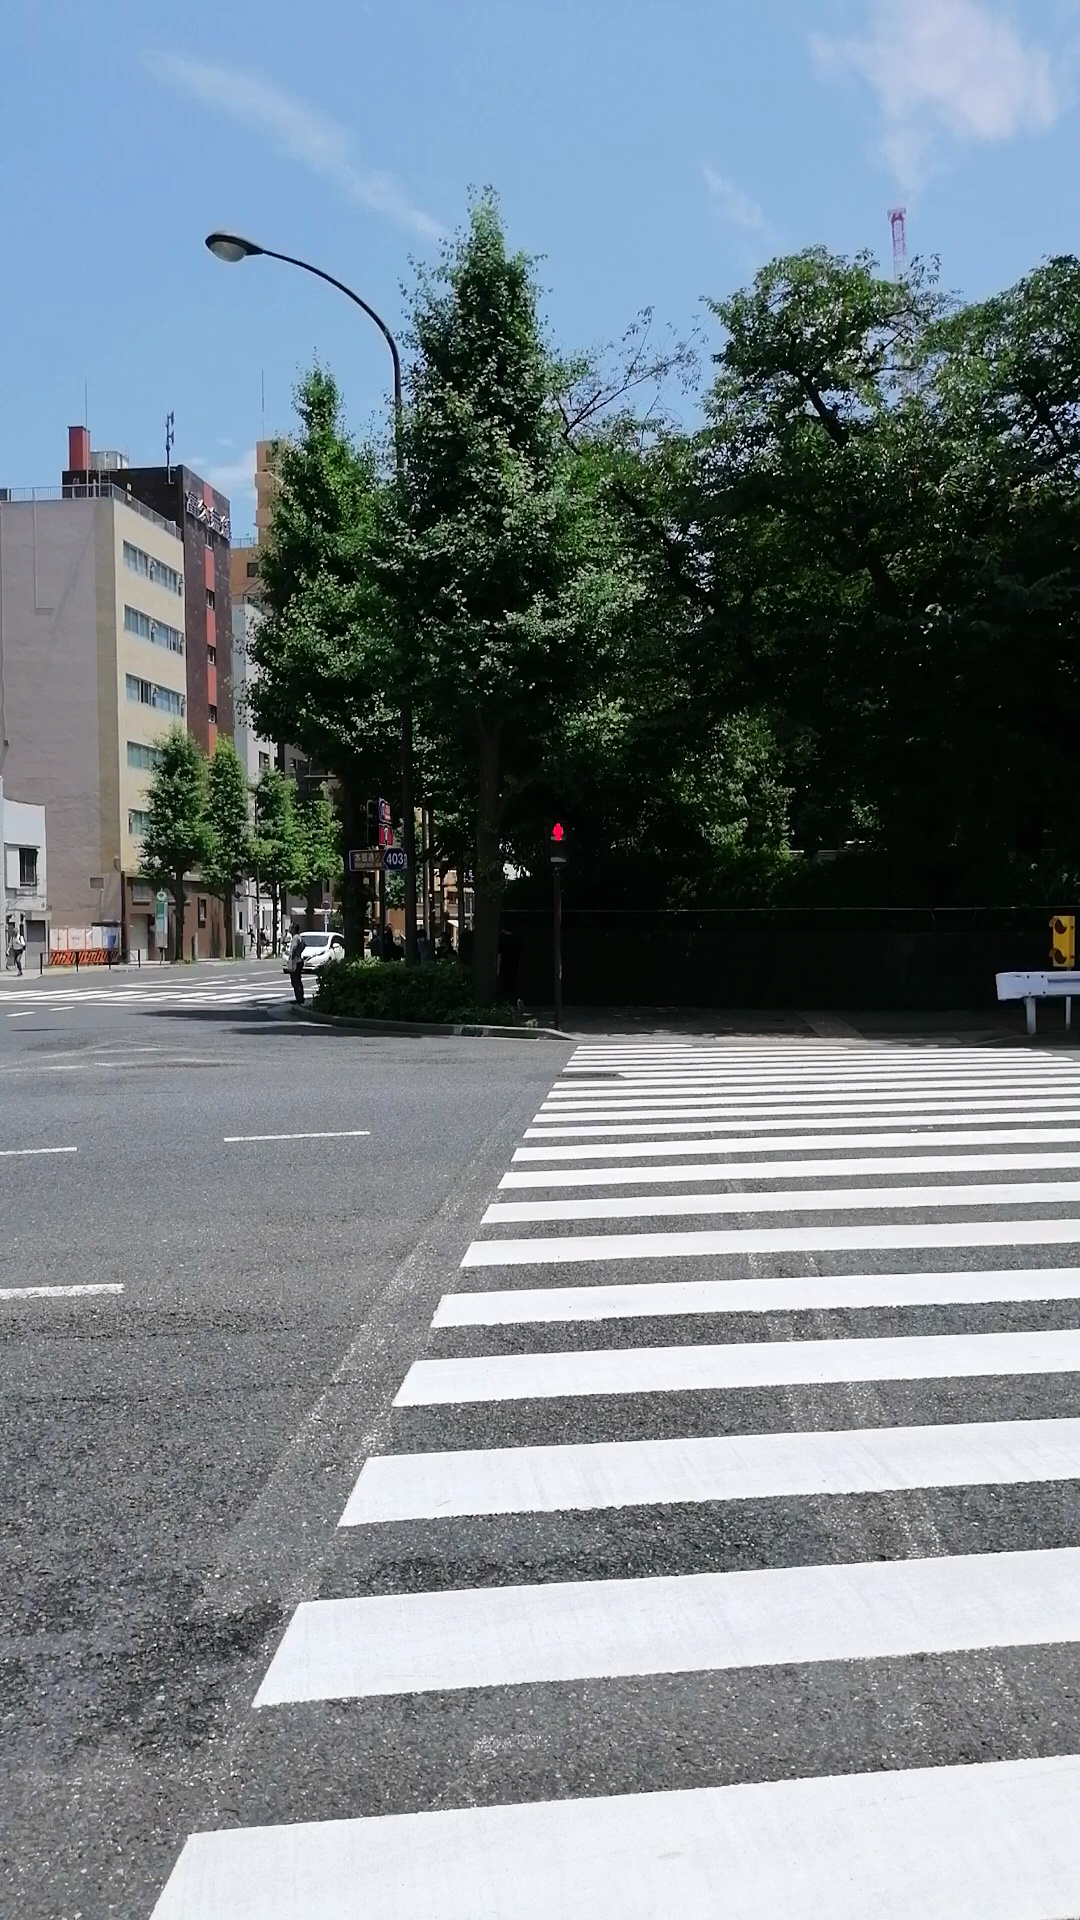red: (545, 816, 572, 872)
